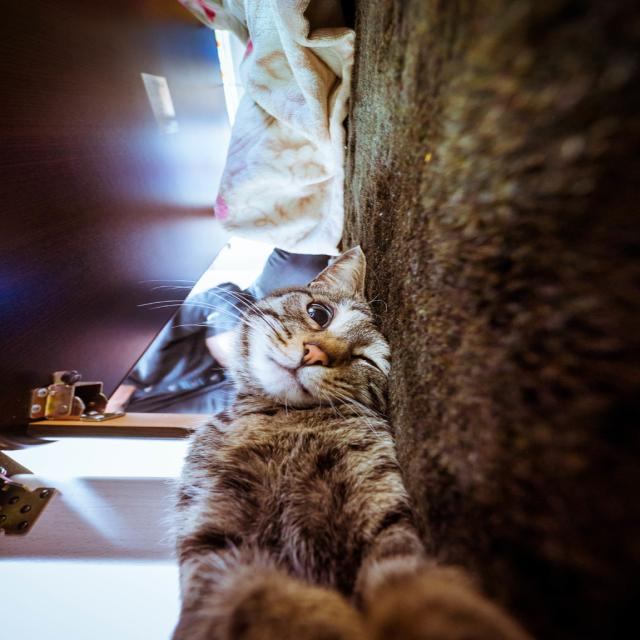Cat: (154, 238, 523, 638)
